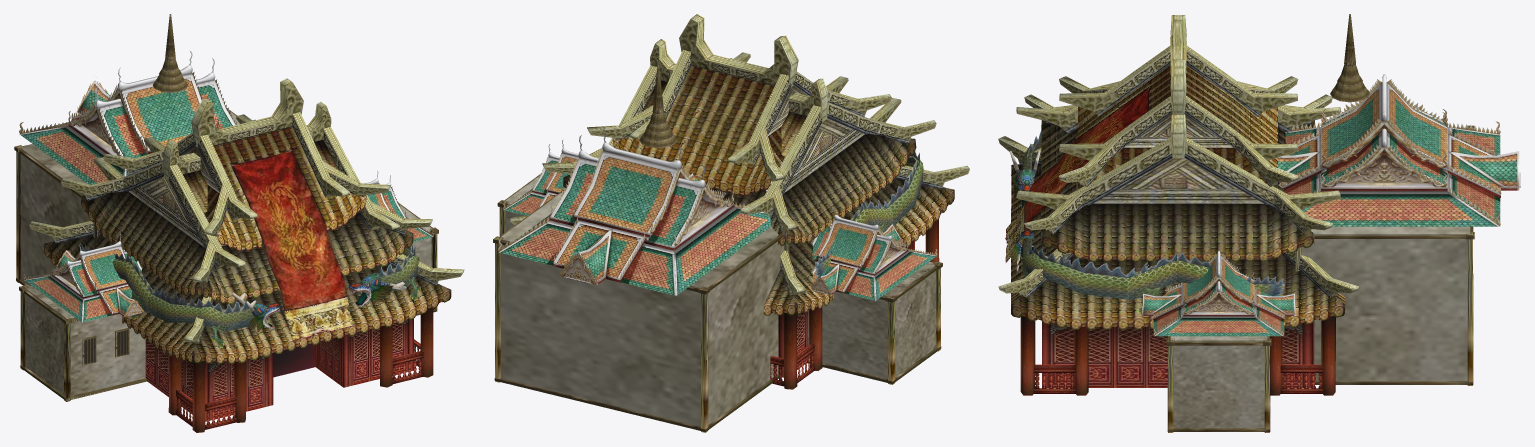
Rendered from royal-palace.glb.
3 views of the same model, side by side, from view 1: azimuth 30°, elevation 25°; view 2: azimuth 150°, elevation 25°; view 3: azimuth 270°, elevation 25° (orthographic). The views are drawn at different scales.
Parts seen in each view (by area): view 1: SIRIN Royal Palace — composed RO architecture; view 2: SIRIN Royal Palace — composed RO architecture; view 3: SIRIN Royal Palace — composed RO architecture.
Boxes of the visible parts, x1,y1,x2,y2 form: SIRIN Royal Palace — composed RO architecture: (14, 14, 464, 432); SIRIN Royal Palace — composed RO architecture: (493, 14, 969, 432); SIRIN Royal Palace — composed RO architecture: (998, 14, 1520, 432).
Bounding box in the file's own units: 47.89 × 34.7 × 51.81.
Materials: 16 (15 with a texture image).
